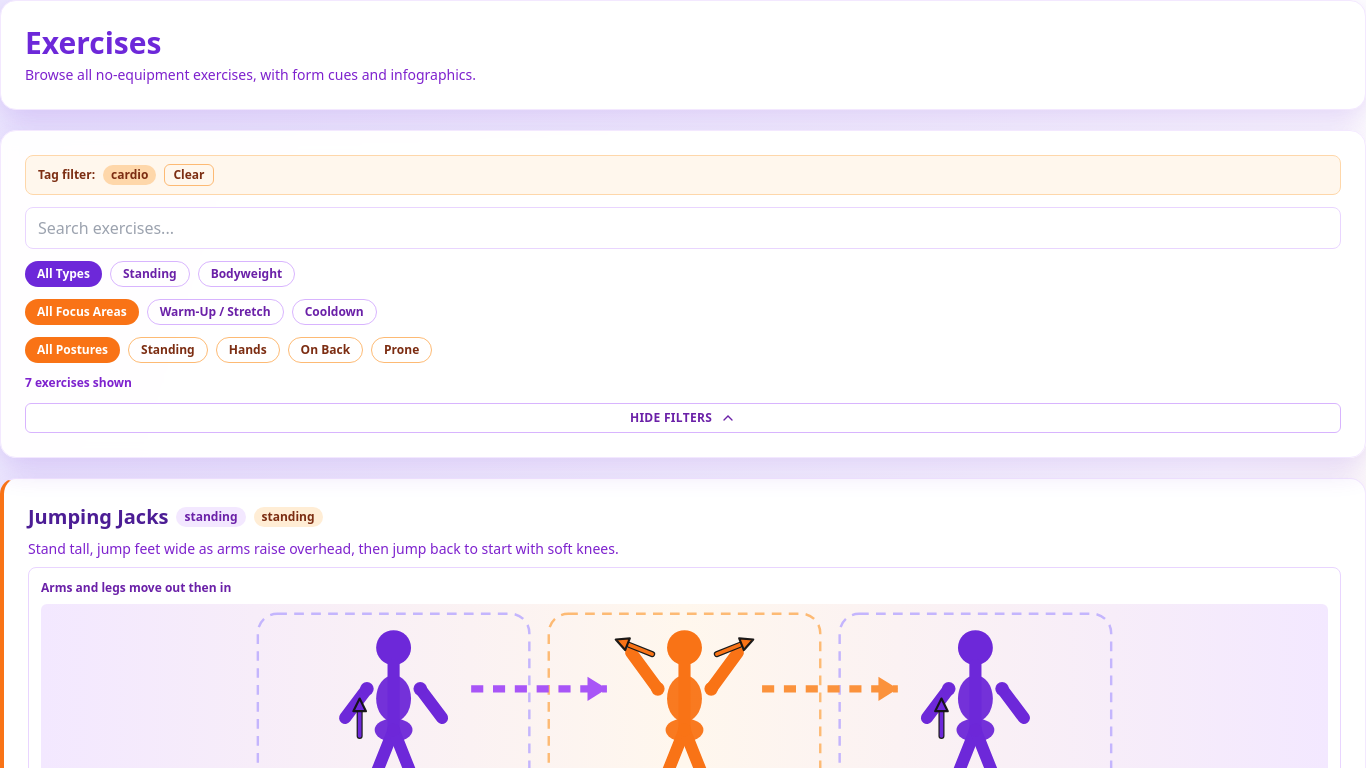
Scenario: ExerciseList page › applies tag filter from query params and can clear it
expect the text "Tag filter:" is shown: met, box [38,167,95,183]
expect the text "cardio" is shown: met, box [103,165,156,185]
Click the button "Clear".
click(189, 175)  # box [164,164,214,186]
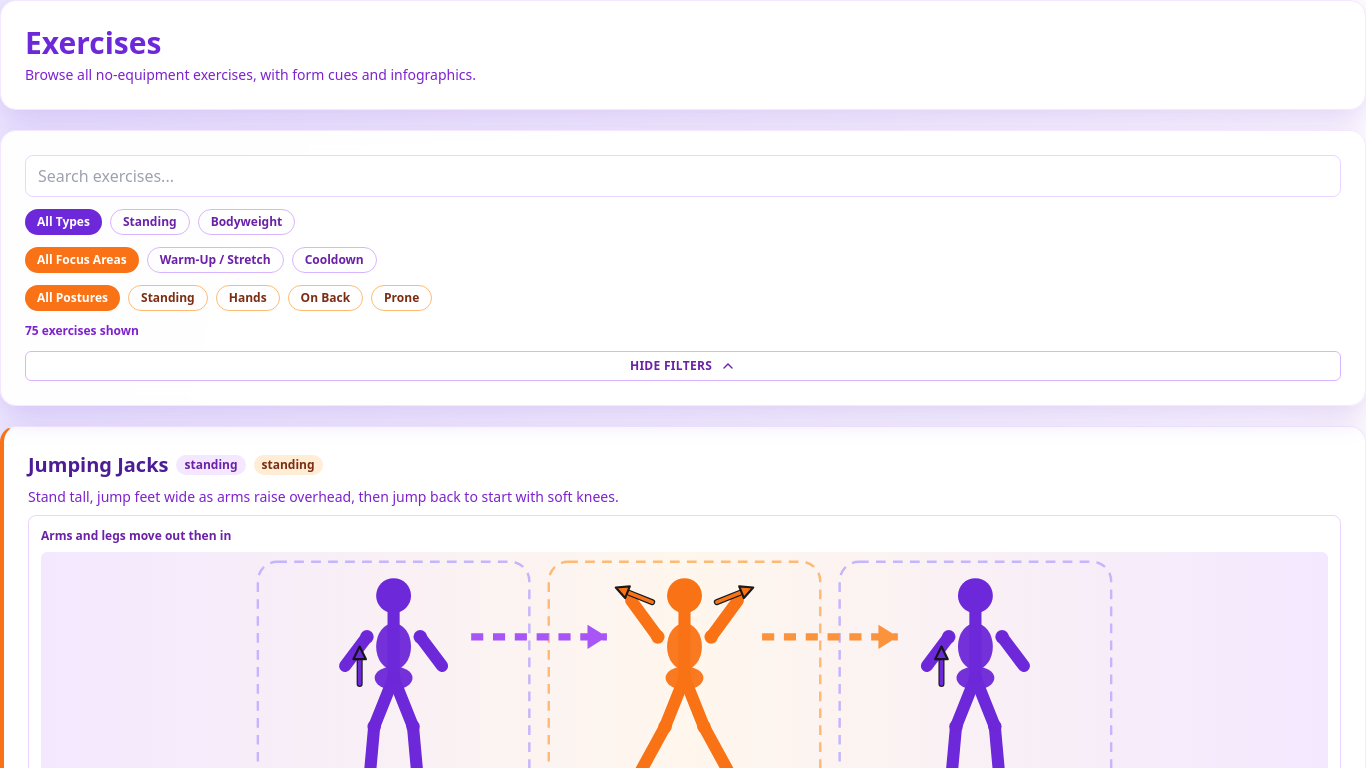
expect the text "Tag filter:" is gone: met
